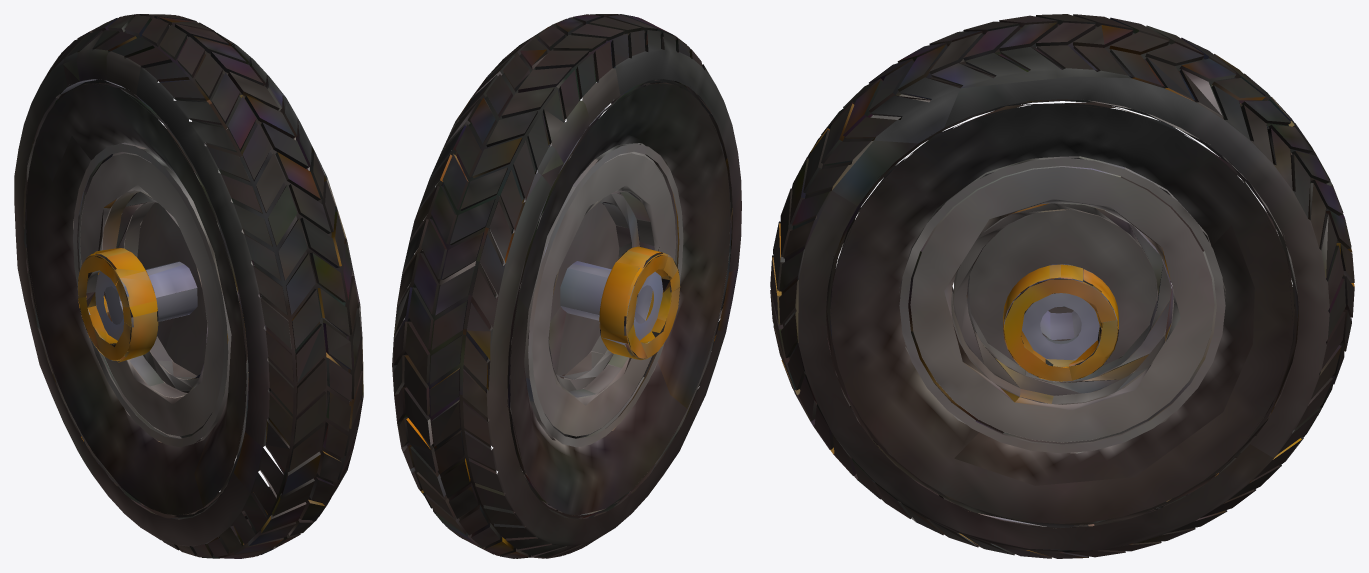
Rendered from bike_wheel_rear.glb.
3 views of the same model, side by side, from view 1: azimuth 30°, elevation 25°; view 2: azimuth 150°, elevation 25°; view 3: azimuth 270°, elevation 25° (orthographic). The views are drawn at different scales.
Visible parts, largest first — view 1: bike_wheel_rear; view 2: bike_wheel_rear; view 3: bike_wheel_rear.
Part boxes in pixels (<box>): bike_wheel_rear: <box>14,14,363,558</box>; bike_wheel_rear: <box>392,14,741,558</box>; bike_wheel_rear: <box>770,14,1354,558</box>.
Size of the model in its own units: 0.2749 by 0.7709 by 0.7709.
Materials: 1 (1 with a texture image).
